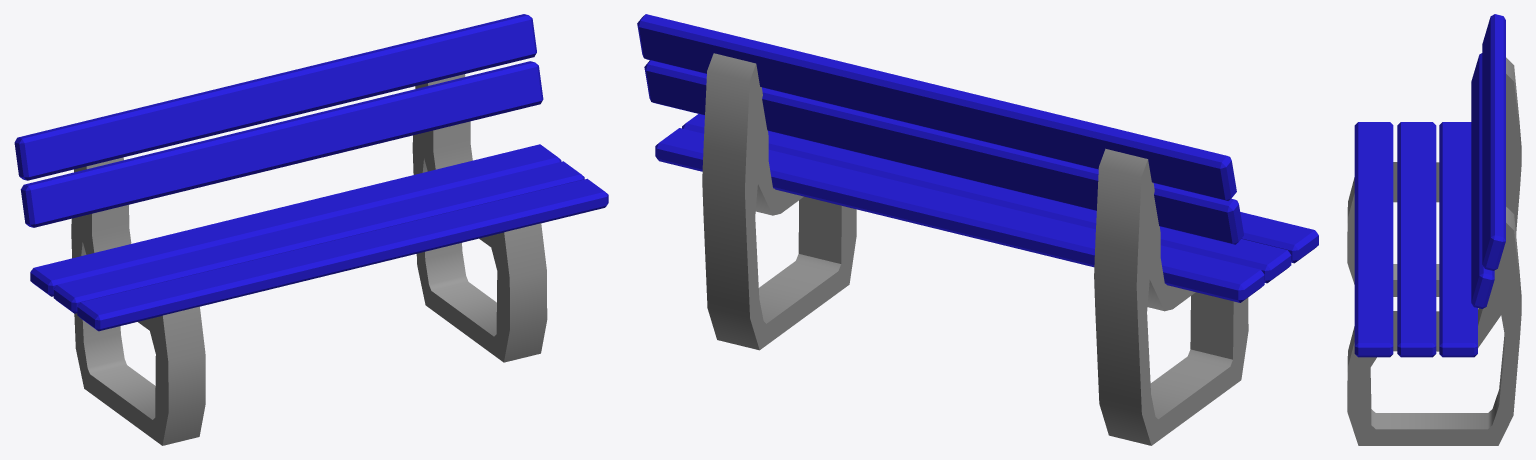
The model's file is Zitbank2_Export.FBX.
The picture shows the model from 3 angles, left to right: view 1: azimuth 30°, elevation 25°; view 2: azimuth 150°, elevation 25°; view 3: azimuth 270°, elevation 25°; orthographic projection. The views are drawn at different scales.
Visible parts, largest first — view 1: Zitbank003; view 2: Zitbank003; view 3: Zitbank003.
Part boxes in pixels (x1,y1,x2,y2): Zitbank003: (14,14,608,445); Zitbank003: (637,14,1318,445); Zitbank003: (1347,14,1521,445).
Size of the model in its own units: 151 by 75.26 by 49.81.
